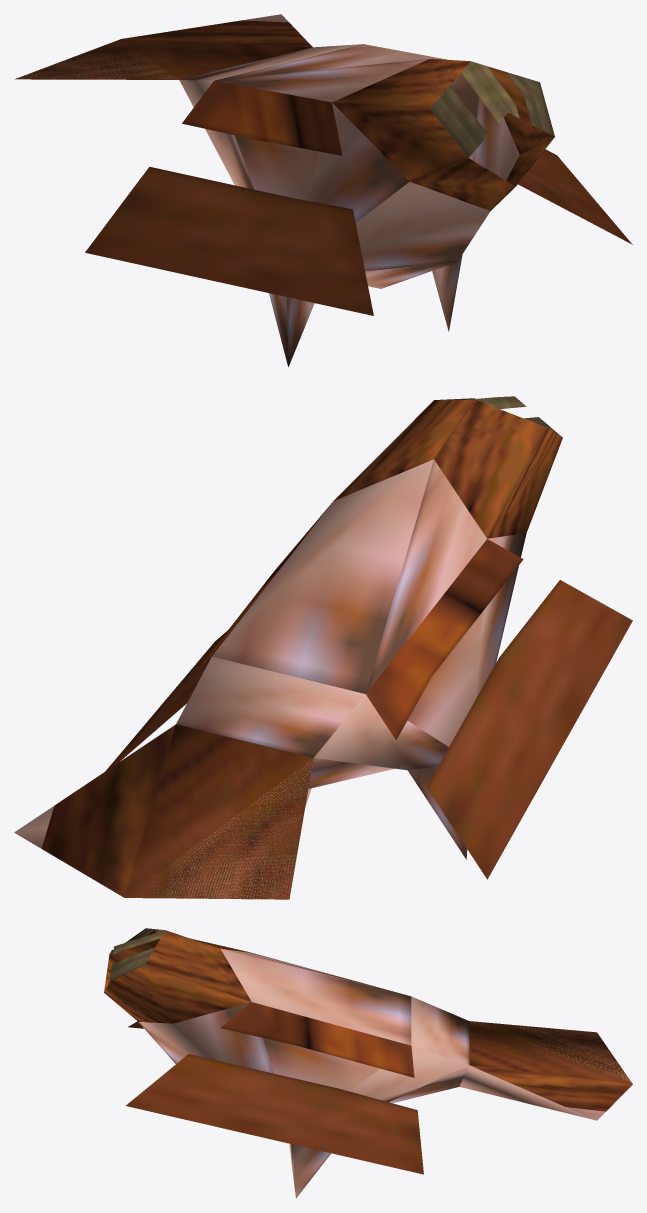
The picture shows the model from 3 angles, top to bottom: view 1: azimuth 30°, elevation 25°; view 2: azimuth 150°, elevation 25°; view 3: azimuth 270°, elevation 25°; orthographic projection. The views are drawn at different scales.
Visible parts, largest first — view 1: T1L2M006_8; view 2: T1L2M006_8; view 3: T1L2M006_8.
Boxes of the visible parts, <box> form: T1L2M006_8: <box>15,14,632,366</box>; T1L2M006_8: <box>14,396,632,899</box>; T1L2M006_8: <box>104,928,632,1198</box>.
Size of the model in its own units: 0.0934 by 0.0855 by 0.1966.
